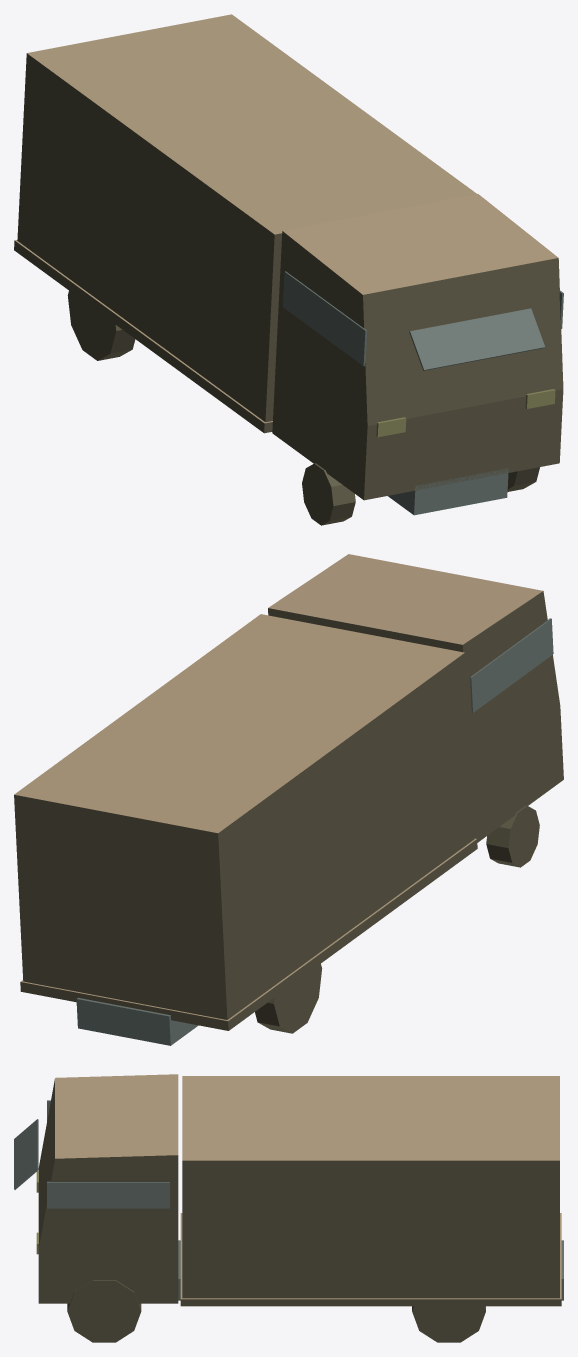
The model's file is SM_CocheCivil_Camion_v2_LOD0.fbx.
The picture shows the model from 3 angles, top to bottom: view 1: azimuth 30°, elevation 25°; view 2: azimuth 150°, elevation 25°; view 3: azimuth 270°, elevation 25°; orthographic projection. The views are drawn at different scales.
Visible parts, largest first — view 1: SM_coche_civil_v22_LOD0; view 2: SM_coche_civil_v22_LOD0; view 3: SM_coche_civil_v22_LOD0.
Boxes of the visible parts, box(x1,y1,x2,y2) form: SM_coche_civil_v22_LOD0: box(14, 14, 563, 525); SM_coche_civil_v22_LOD0: box(14, 554, 563, 1045); SM_coche_civil_v22_LOD0: box(14, 1074, 563, 1342).
Bounding box in the file's own units: 2.32 × 2.69 × 6.7.
